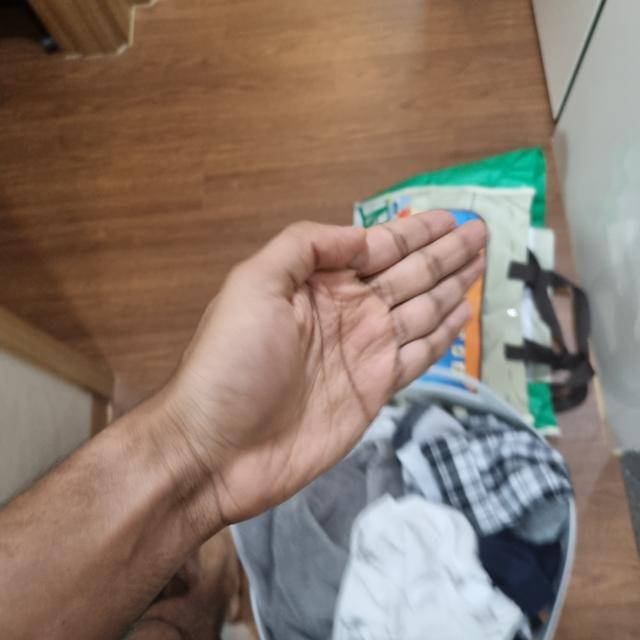Paper: (156, 204, 487, 519)
